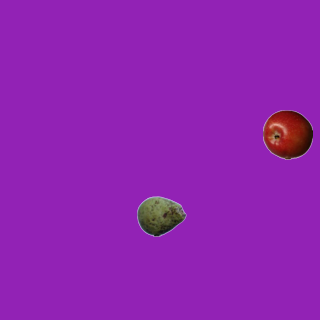Apple Braeburn: (262, 109, 312, 159)
Pear Stone: (136, 191, 186, 241)
